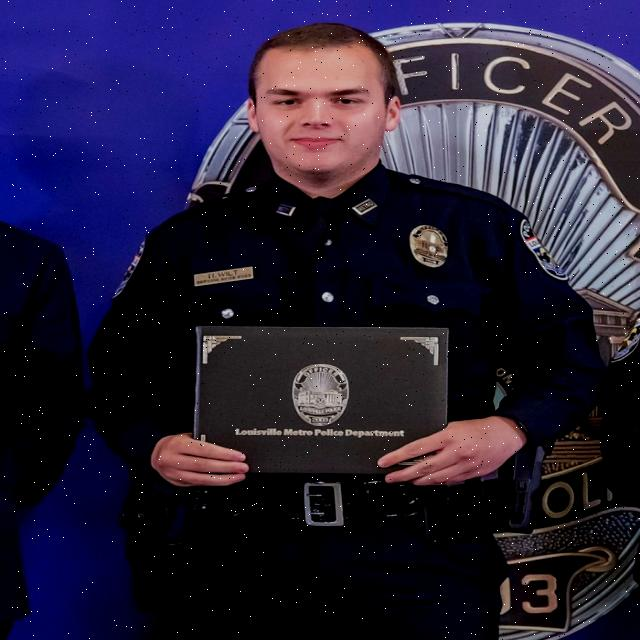police: (99, 6, 554, 640)
